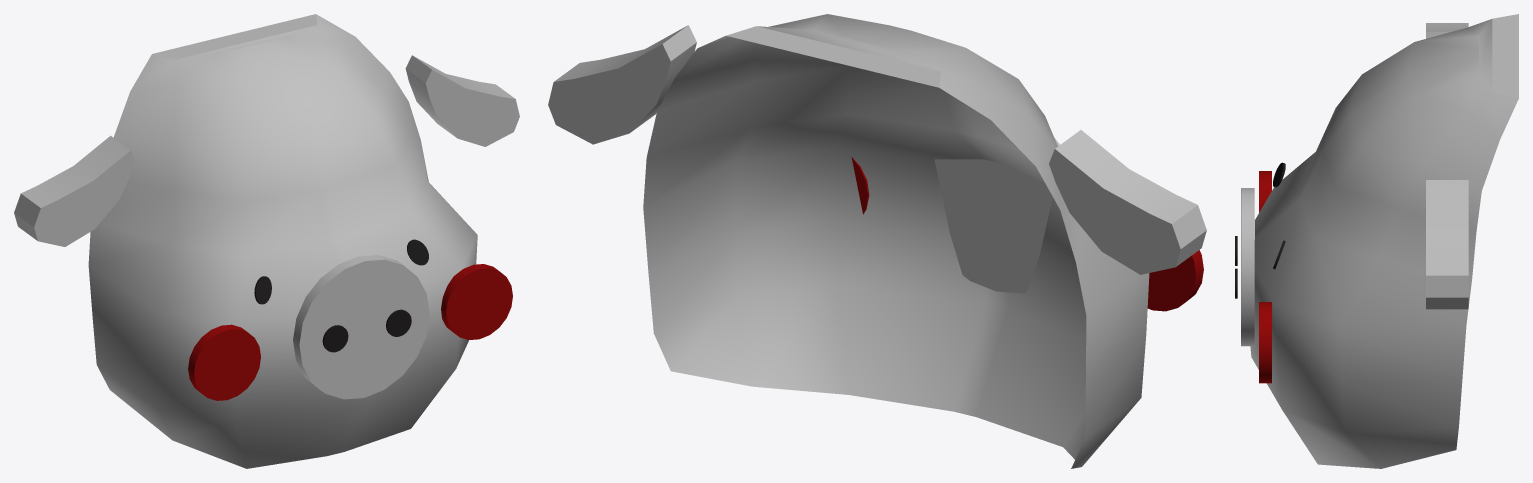
The model's file is Pig Child.fbx.
3 views of the same model, side by side, from view 1: azimuth 30°, elevation 25°; view 2: azimuth 150°, elevation 25°; view 3: azimuth 270°, elevation 25° (orthographic). The views are drawn at different scales.
Visible parts, largest first — view 1: rabbitMask1, polySurface7, ear2, ear3, cheeks5, cheeks6, polySurface8, polySurface9; view 2: rabbitMask1, ear2, polySurface7, ear3, cheeks5; view 3: rabbitMask1, ear3, polySurface7, cheeks6, ear2, cheeks5.
Part boxes in pixels (x1,y1,x2,y2): rabbitMask1: [88, 14, 477, 468]; polySurface7: [293, 255, 429, 399]; ear2: [14, 135, 135, 246]; ear3: [405, 55, 519, 146]; cheeks5: [188, 324, 260, 400]; cheeks6: [441, 264, 512, 339]; polySurface8: [322, 325, 348, 352]; polySurface9: [386, 309, 411, 336]; rabbitMask1: [643, 14, 1149, 468]; ear2: [1049, 130, 1206, 274]; polySurface7: [934, 137, 1059, 293]; ear3: [548, 25, 696, 144]; cheeks5: [1147, 250, 1203, 311]; rabbitMask1: [1250, 14, 1518, 468]; ear3: [1426, 180, 1468, 309]; polySurface7: [1241, 188, 1254, 346]; cheeks6: [1259, 302, 1271, 383]; ear2: [1426, 23, 1468, 38]; cheeks5: [1259, 171, 1271, 212].
Bounding box in the file's own units: 4.03 × 2.76 × 1.93.
